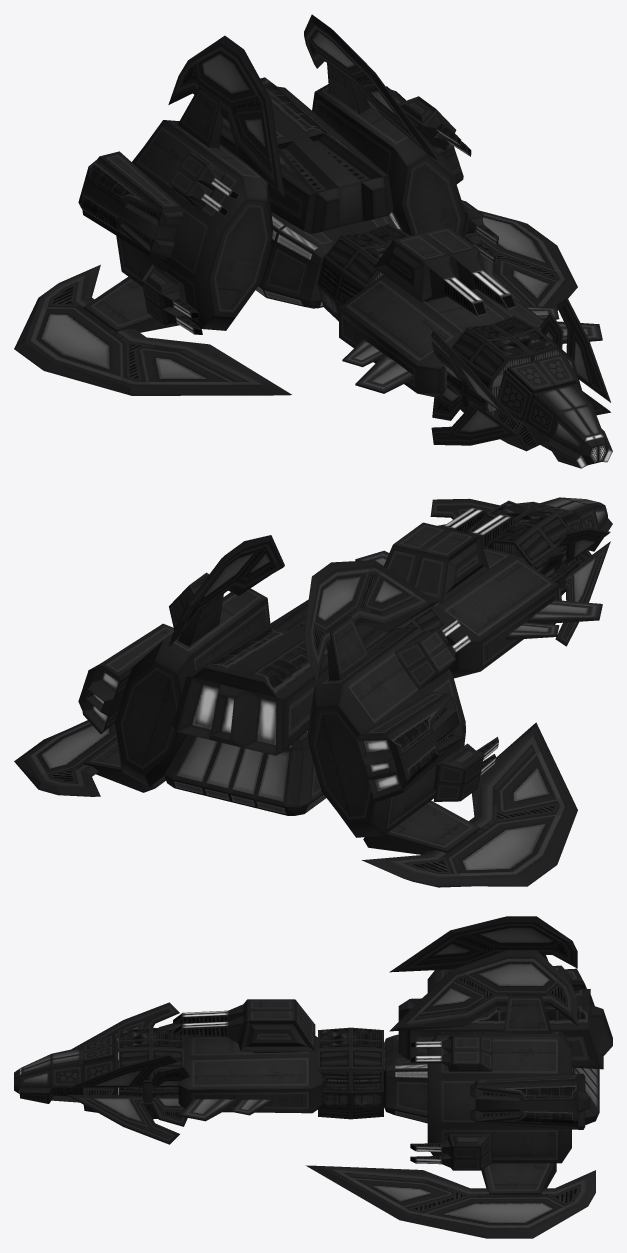
The model's file is astraTalonFleet_FrigateB.FBX.
3 renders of one model, top to bottom at view 1: azimuth 30°, elevation 25°; view 2: azimuth 150°, elevation 25°; view 3: azimuth 270°, elevation 25°, orthographic. The views are drawn at different scales.
Parts seen in each view (by area): view 1: FrigateBModel; view 2: FrigateBModel; view 3: FrigateBModel.
Part boxes in pixels (x1,y1,x2,y2): FrigateBModel: [14, 14, 612, 468]; FrigateBModel: [14, 497, 612, 887]; FrigateBModel: [14, 916, 612, 1238].
Bounding box in the file's own units: 726 × 925 × 354.
